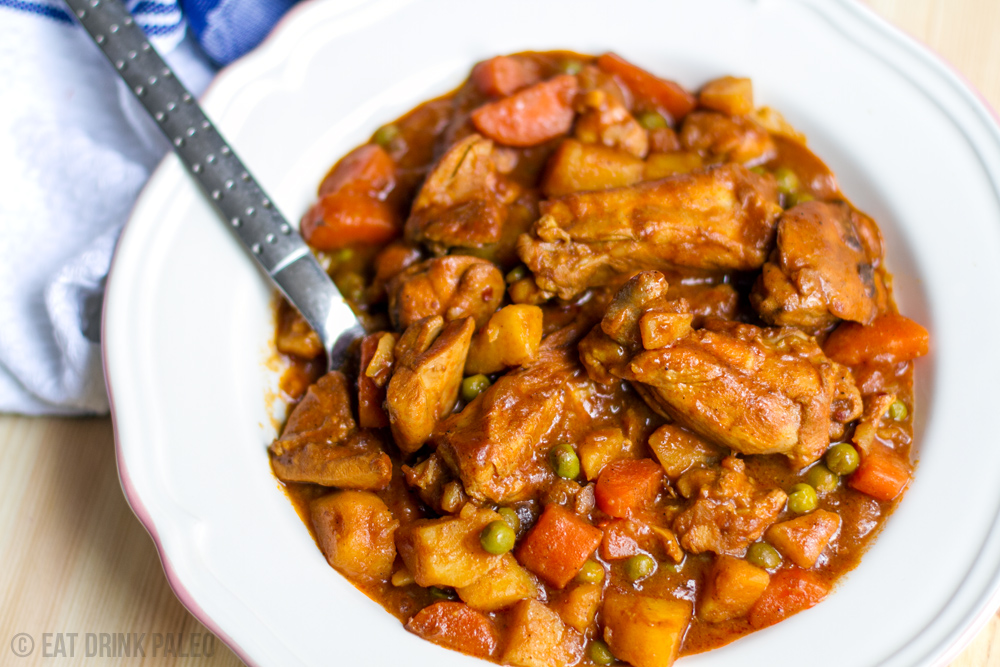chicken_curry: (361, 109, 895, 633)
